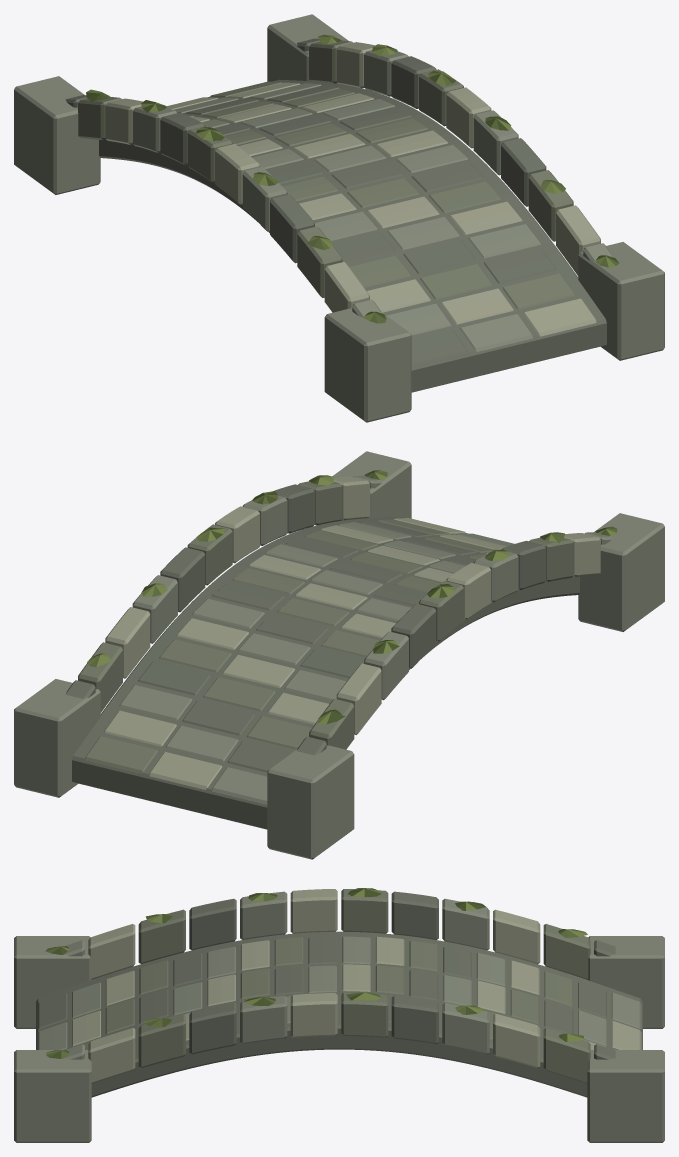
3 renders of one model, top to bottom at view 1: azimuth 30°, elevation 25°; view 2: azimuth 150°, elevation 25°; view 3: azimuth 270°, elevation 25°, orthographic. The views are drawn at different scales.
Visible parts, largest first — view 1: moss-stone-bridge · evaluated preview mesh; view 2: moss-stone-bridge · evaluated preview mesh; view 3: moss-stone-bridge · evaluated preview mesh.
Boxes of the visible parts, x1,y1,x2,y2 form: moss-stone-bridge · evaluated preview mesh: [14, 14, 664, 422]; moss-stone-bridge · evaluated preview mesh: [14, 451, 664, 859]; moss-stone-bridge · evaluated preview mesh: [14, 888, 664, 1142].
Size of the model in its own units: 9.5 by 4.44 by 19.3.
